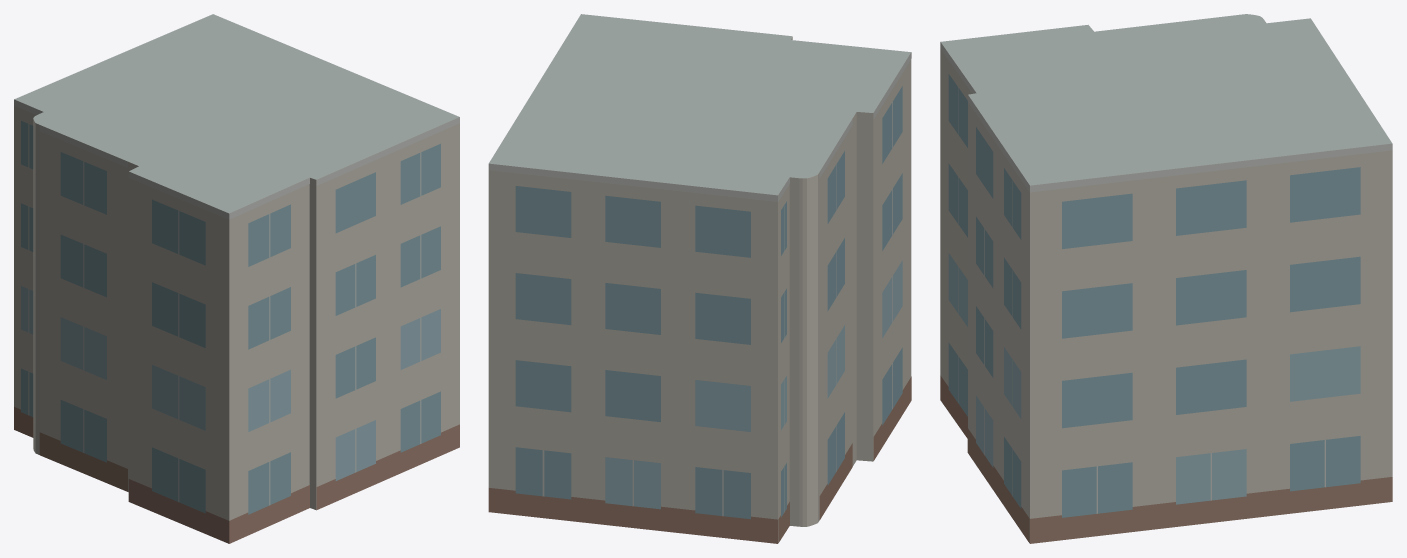
Rendered from survey-upis-32639798.glb.
3 renders of one model, left to right at view 1: azimuth 30°, elevation 25°; view 2: azimuth 150°, elevation 25°; view 3: azimuth 270°, elevation 25°, orthographic. The views are drawn at different scales.
Visible parts, largest first — view 1: survey-upis-32639798.tmp; view 2: survey-upis-32639798.tmp; view 3: survey-upis-32639798.tmp.
Part boxes in pixels (bbox=[...]): survey-upis-32639798.tmp: bbox=[14, 14, 459, 543]; survey-upis-32639798.tmp: bbox=[488, 14, 911, 543]; survey-upis-32639798.tmp: bbox=[940, 14, 1392, 543].
Size of the model in its own units: 13.26 by 12.9 by 14.76.
